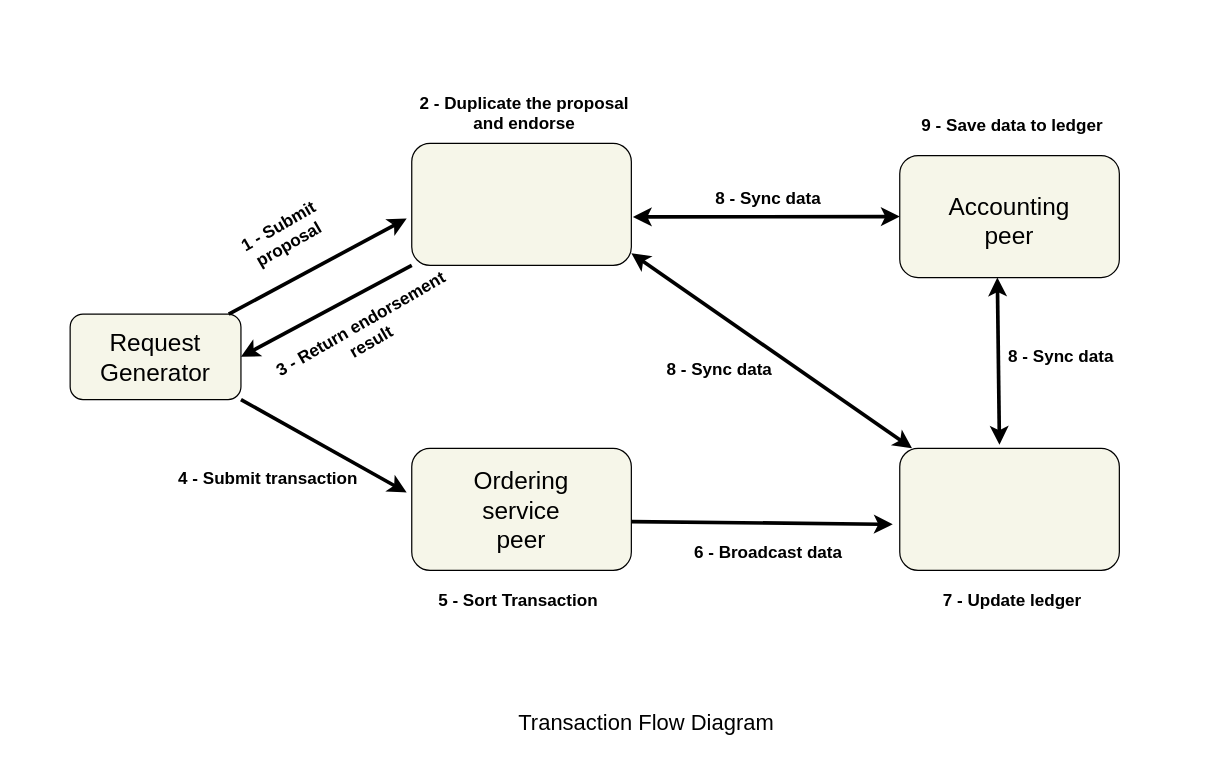
Image size: 1214x763. Some labels were removed from this diagram. The centre of each missing label's shape, as x and y in pixels:
Authorized peer: pixel 1009 508
Endorsement peer: pixel 521 203
